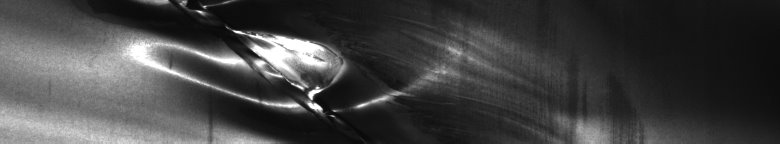ke: (136, 4, 486, 136)
